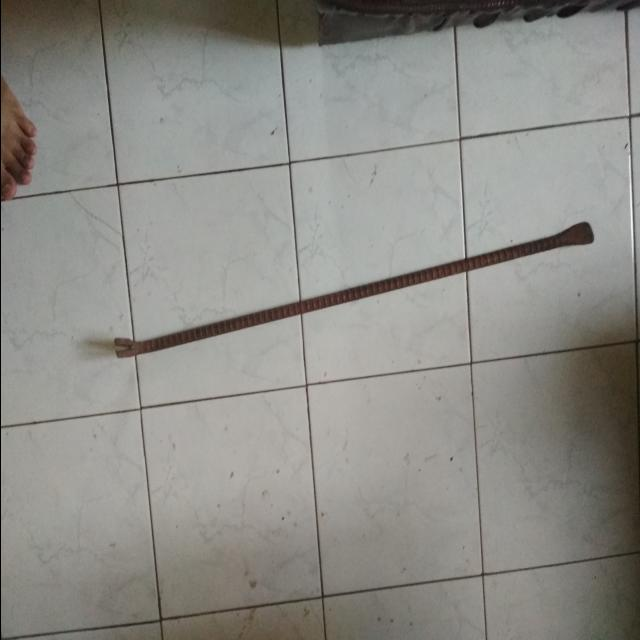Linggis: (114, 221, 597, 365)
